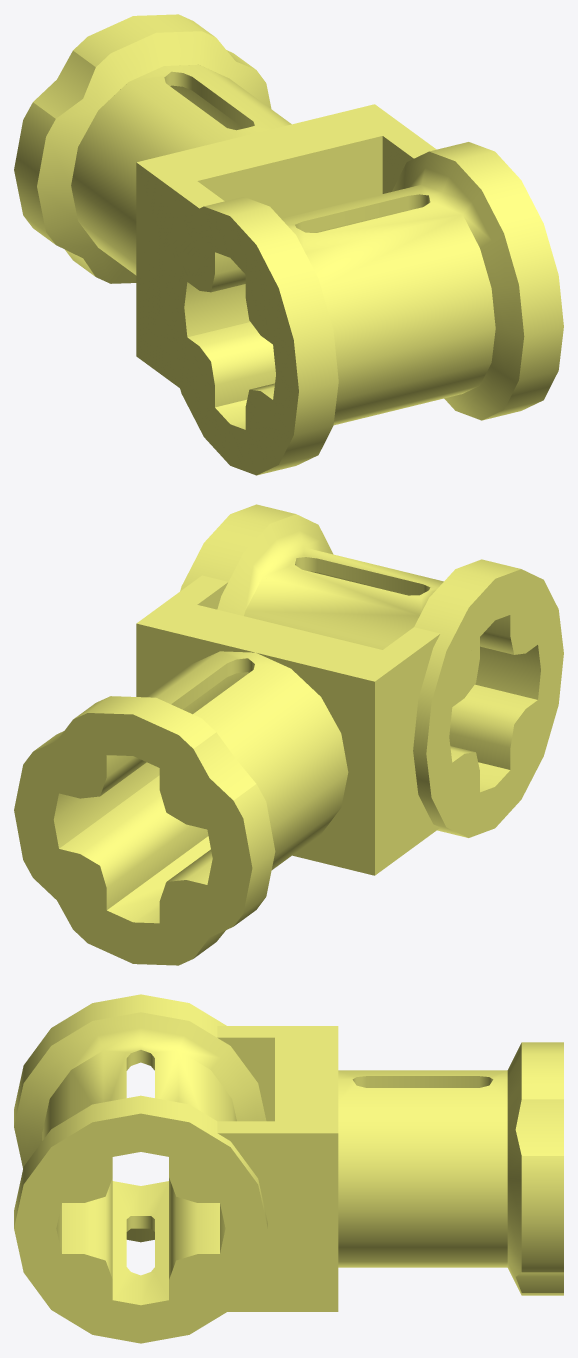
The picture shows the model from 3 angles, top to bottom: view 1: azimuth 30°, elevation 25°; view 2: azimuth 150°, elevation 25°; view 3: azimuth 270°, elevation 25°; orthographic projection. The views are drawn at different scales.
Parts seen in each view (by area): view 1: 42135.dat; view 2: 42135.dat; view 3: 42135.dat.
Boxes of the visible parts, x1,y1,x2,y2 form: 42135.dat: (14, 14, 563, 475); 42135.dat: (14, 504, 563, 965); 42135.dat: (14, 994, 563, 1343).
Size of the model in its own units: 0.008 by 0.0072 by 0.0156.
